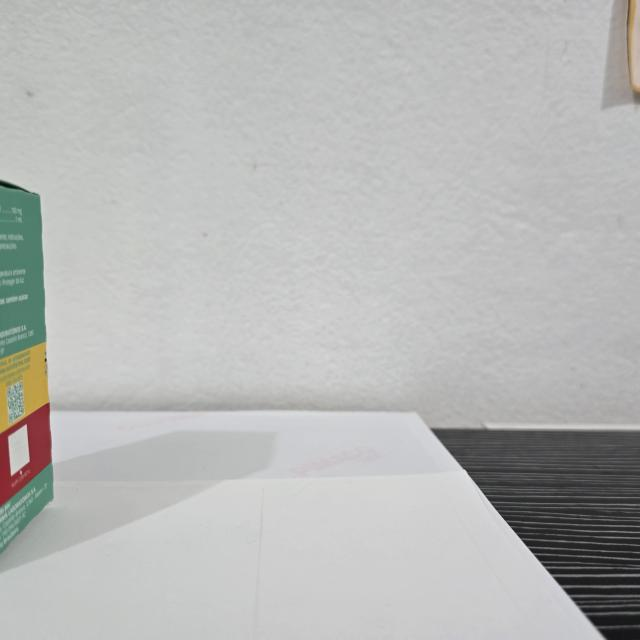tramadol: (0, 176, 59, 554)
